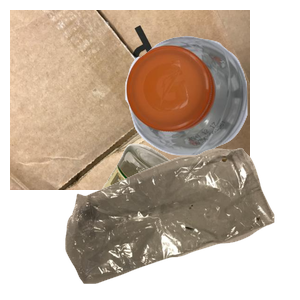cardboard: (10, 10, 250, 190)
glass: (85, 141, 275, 300)
plastic: (123, 33, 300, 181)
trash: (63, 145, 300, 300)
